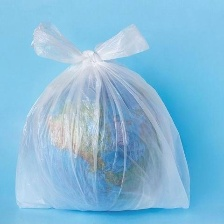plastic_bag: (5, 18, 196, 213)
